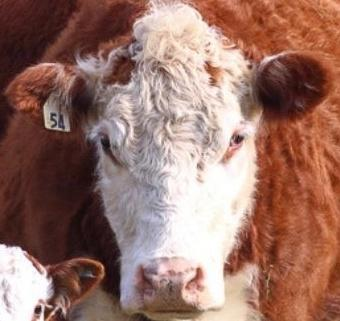muzzles: (119, 255, 226, 320)
